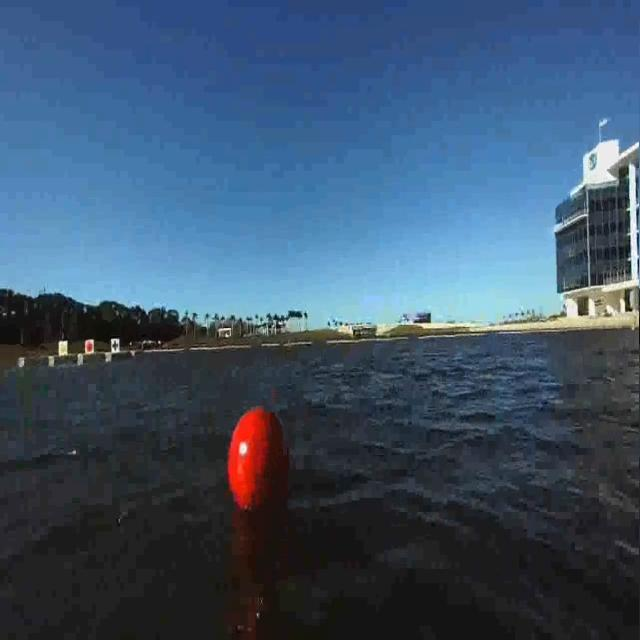red-buoy: (226, 404, 293, 514)
